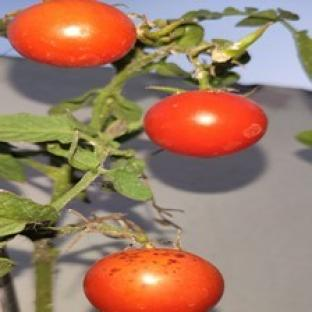Tomato: (84, 248, 224, 311), (144, 91, 267, 157)
